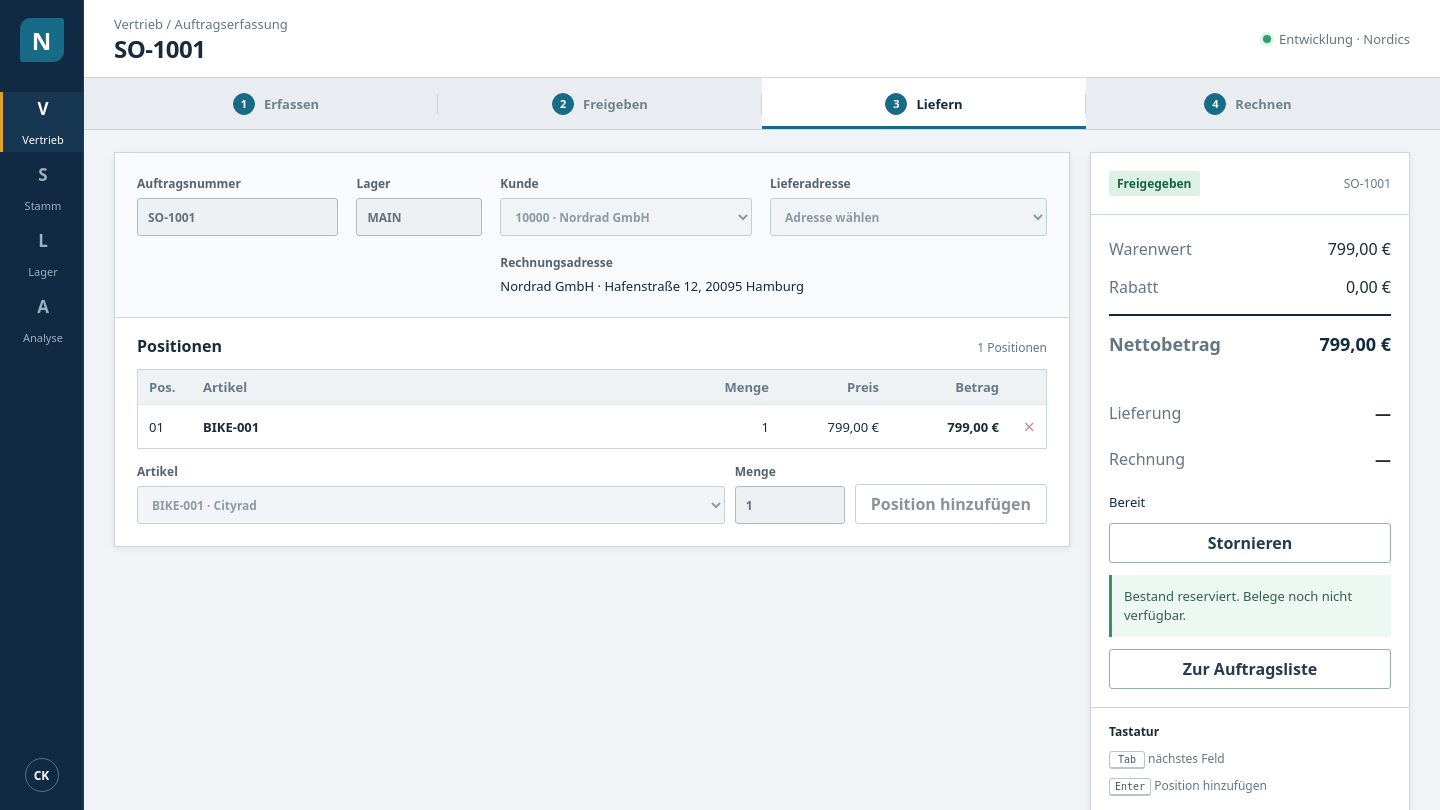
Scenario: cancels a released order and offers a new one
Expected: the text "Freigegeben" is shown, [1109, 171, 1200, 196]
Click the button "Stornieren": click(1250, 543) [1109, 523, 1391, 563]
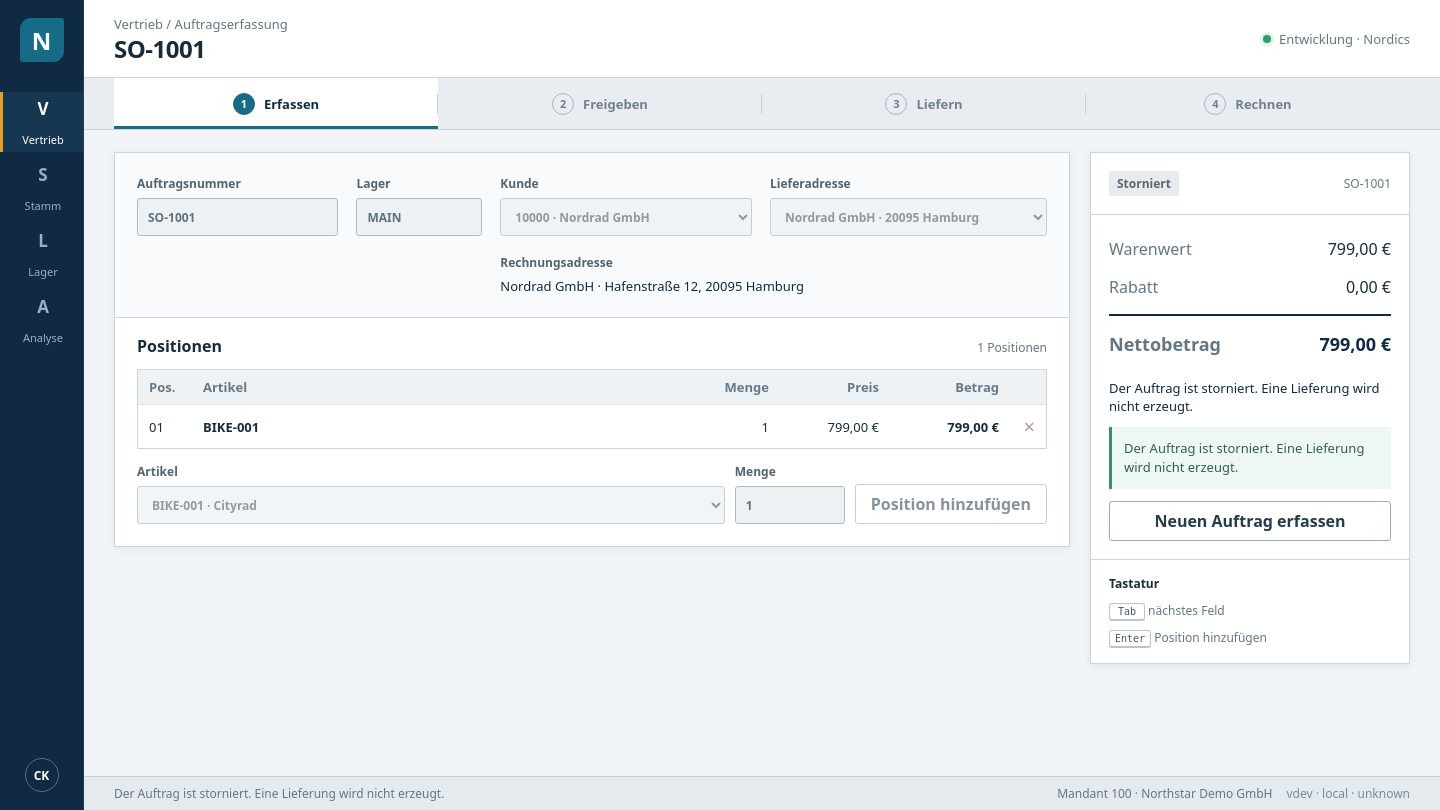
Expected: the text "Storniert" is shown, [1109, 171, 1179, 196]
Expected: the 1st text "Der Auftrag ist storniert. Eine Lieferung wird nicht erzeugt." is shown, [1109, 379, 1391, 415]
Expected: the button "Neuen Auftrag erfassen" is shown, [1109, 501, 1391, 541]
